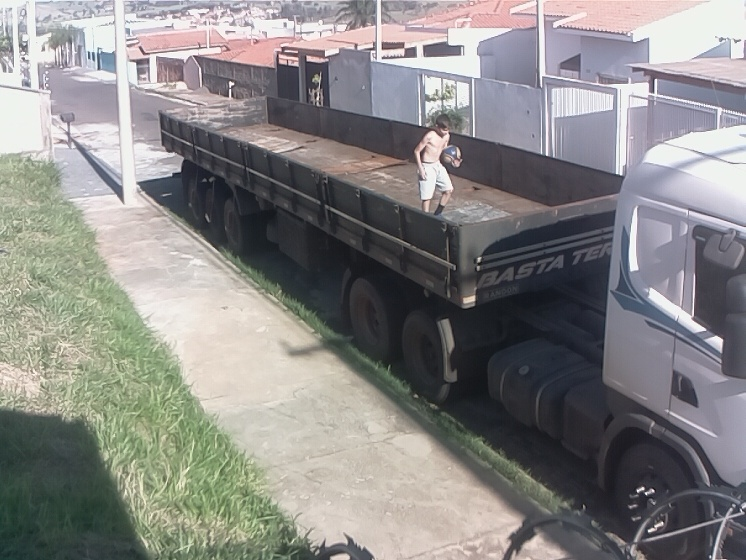person: (412, 111, 462, 220)
